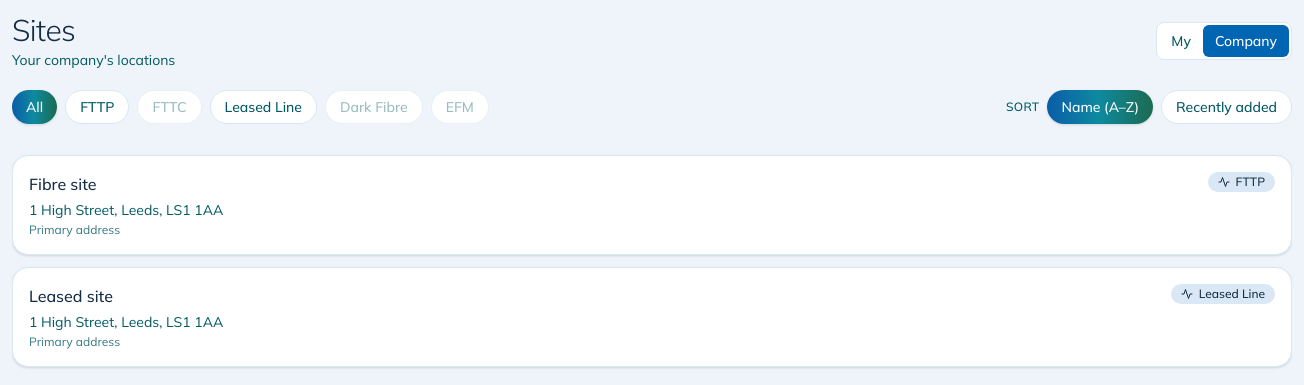
Test case: SitesPage › filters the loaded rows client-side by connectivity type
The image size is (1304, 385).
Check: the text "Fibre site" is shown, box 29,174 -> 96,194
# Pick the "Leased Line" pill — only that row should remain.
Click the button "Leased Line" at (263, 107), box 210,90 -> 317,124
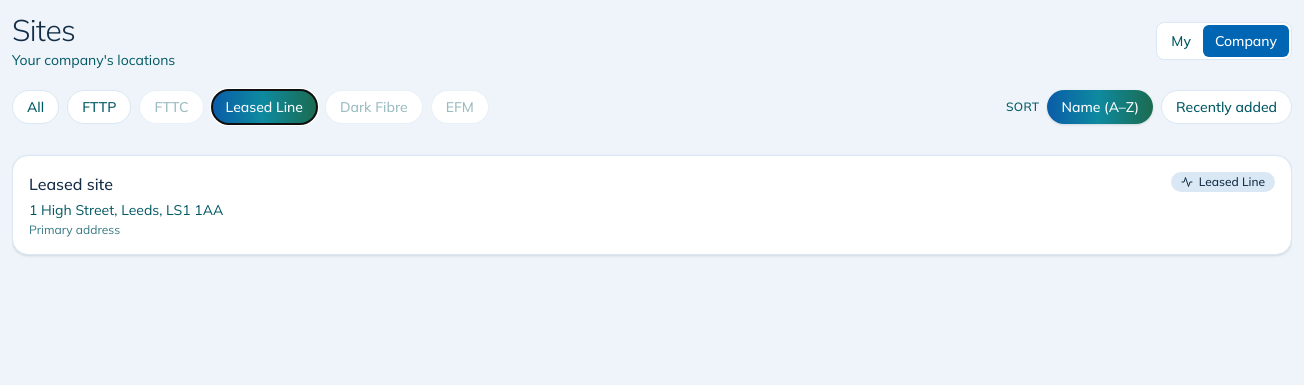
Check: the text "Leased site" is shown, box 29,174 -> 113,194
Check: the button "Fibre site" is gone
